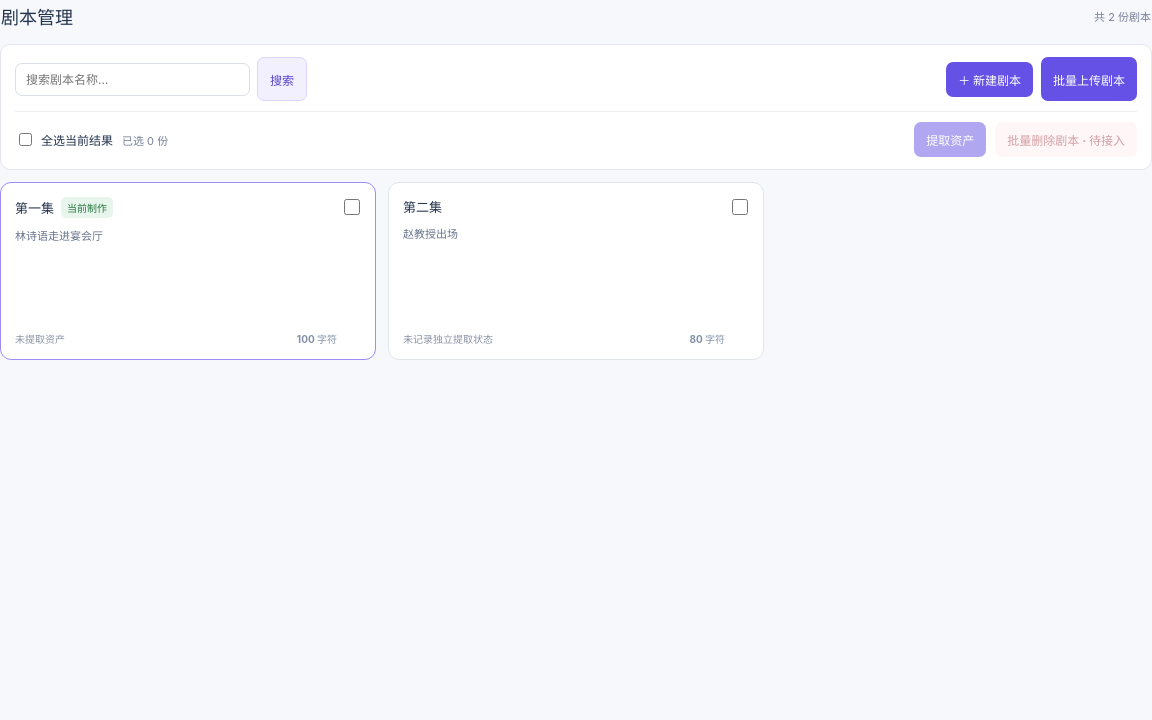
ScriptToDramaScriptLibrary › saves an edit with optimistic revision and leaves other scripts untouched
Click the button with class "card-content" showing "第二集 赵教授出场 未记录独立提取状态 80 字符": (423, 207) [389, 183, 763, 359]
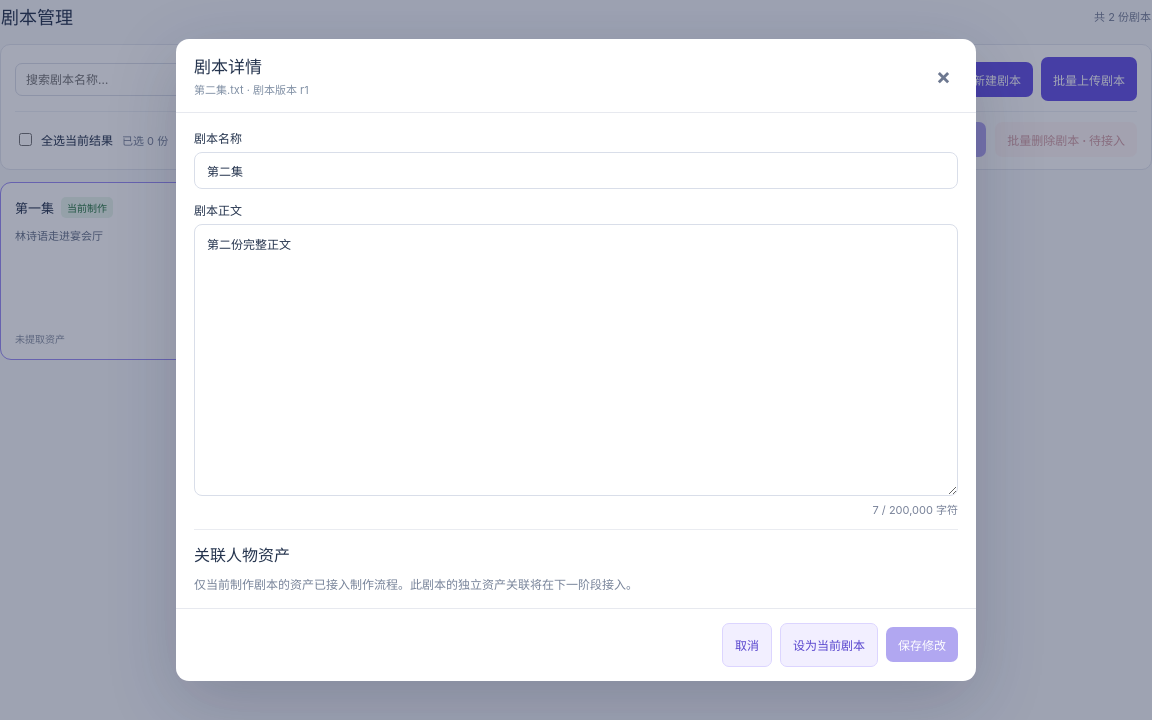
Replace the text in the text box labelled "剧本正文" with "编辑后的第二份": (576, 360) [194, 224, 958, 496]
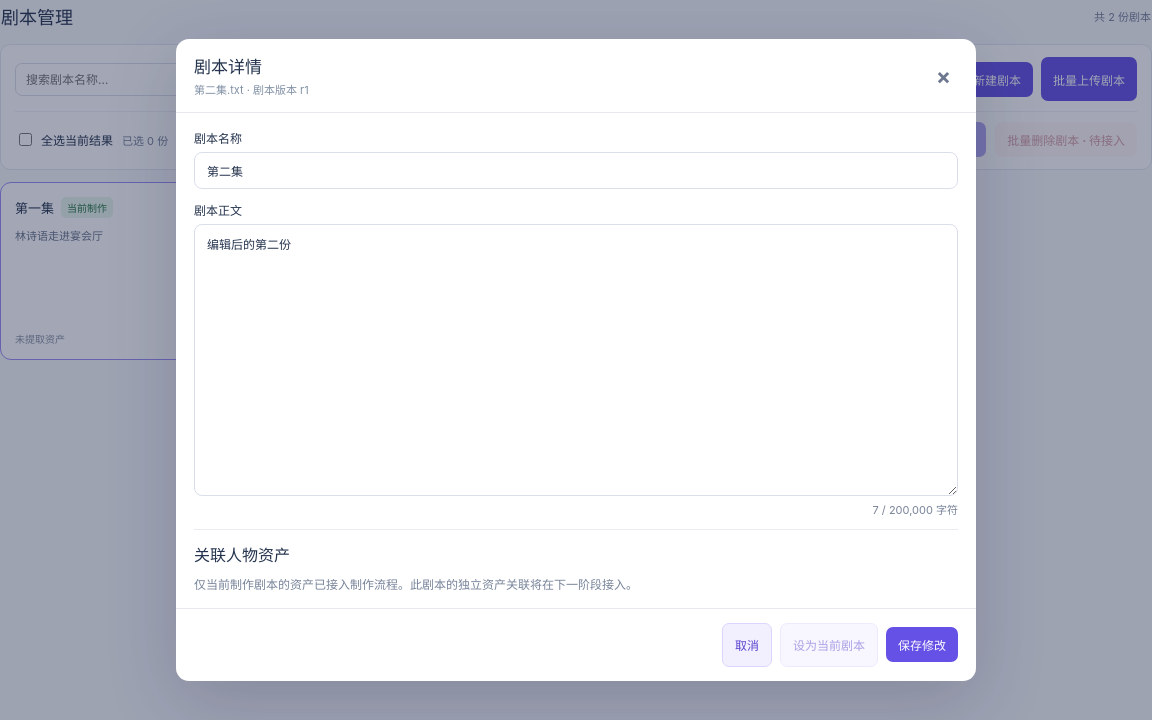
Click the button "保存修改": (922, 645) [886, 627, 958, 662]
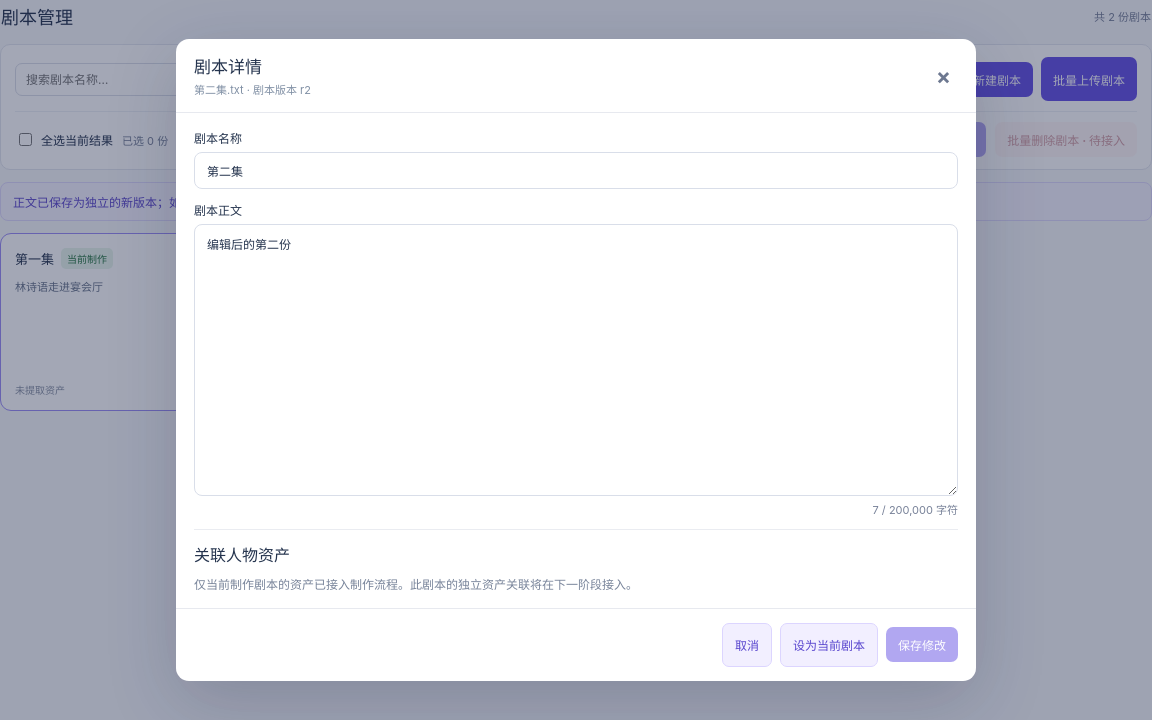
expect the text "正文已保存为独立的新版本" is shown: met, box [13, 195, 445, 210]
